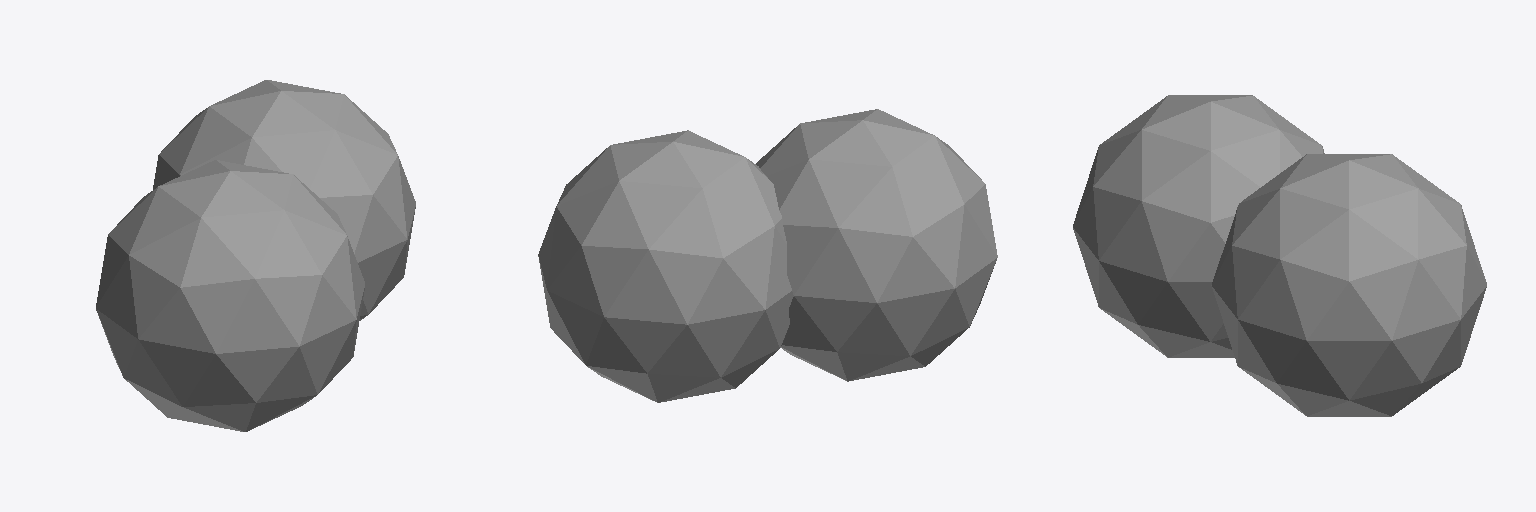
The model's file is deuterium.obj.
3 renders of one model, left to right at view 1: azimuth 30°, elevation 25°; view 2: azimuth 150°, elevation 25°; view 3: azimuth 270°, elevation 25°, orthographic.
Parts seen in each view (by area): view 1: Icosphere; view 2: Icosphere; view 3: Icosphere.
Part boxes in pixels (left/top/right/bottom): Icosphere: left=96, top=80, right=415, bottom=431; Icosphere: left=538, top=109, right=997, bottom=402; Icosphere: left=1073, top=95, right=1486, bottom=416.
Size of the model in its own units: 2.91 by 2 by 3.01.